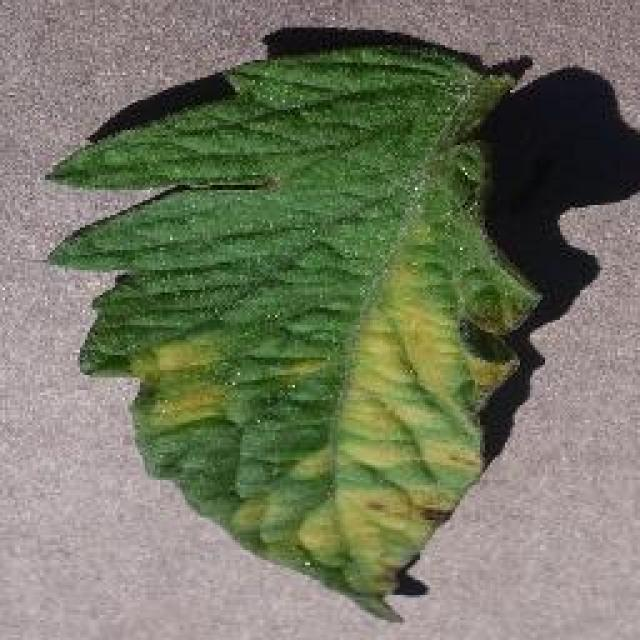leaf mold: (47, 45, 547, 628)
